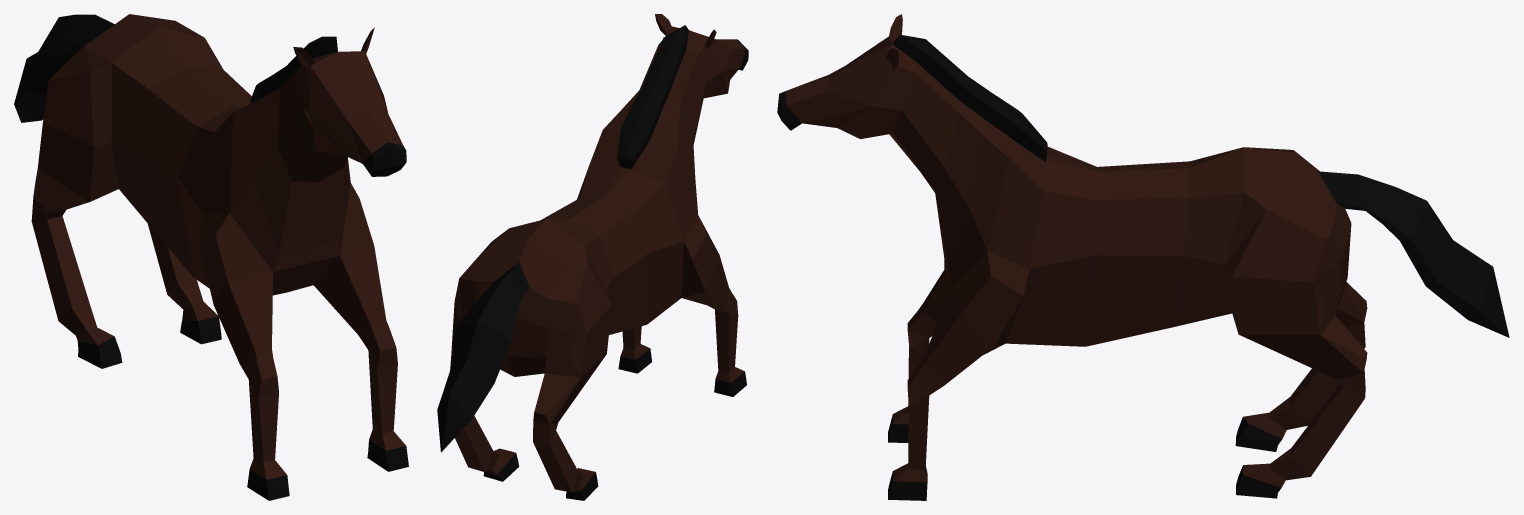
The model's file is Horse_000005.obj.
The picture shows the model from 3 angles, left to right: view 1: azimuth 30°, elevation 25°; view 2: azimuth 150°, elevation 25°; view 3: azimuth 270°, elevation 25°; orthographic projection. The views are drawn at different scales.
Visible parts, largest first — view 1: Horse_Cylinder; view 2: Horse_Cylinder; view 3: Horse_Cylinder.
Boxes of the visible parts, x1,y1,x2,y2 form: Horse_Cylinder: [14, 14, 408, 500]; Horse_Cylinder: [437, 14, 748, 500]; Horse_Cylinder: [777, 14, 1509, 500].
Size of the model in its own units: 2.55 by 6.66 by 10.03.
